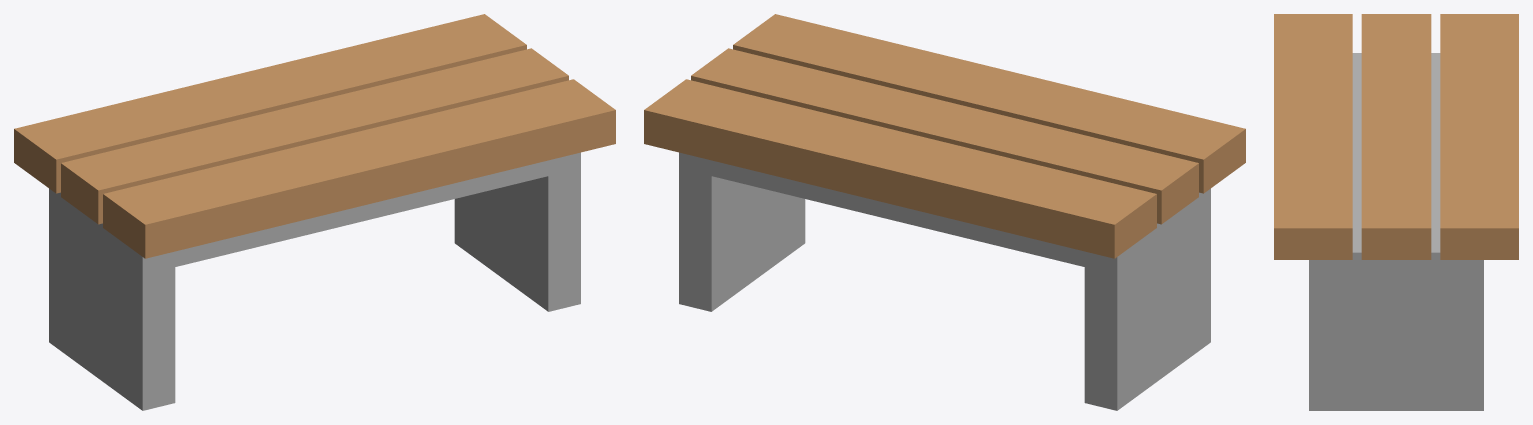
File: others2-12.obj
3 views of the same model, side by side, from view 1: azimuth 30°, elevation 25°; view 2: azimuth 150°, elevation 25°; view 3: azimuth 270°, elevation 25° (orthographic). The views are drawn at different scales.
Size of the model in its own units: 5.8 by 2.4 by 2.8.
1 material, 1 textured.
